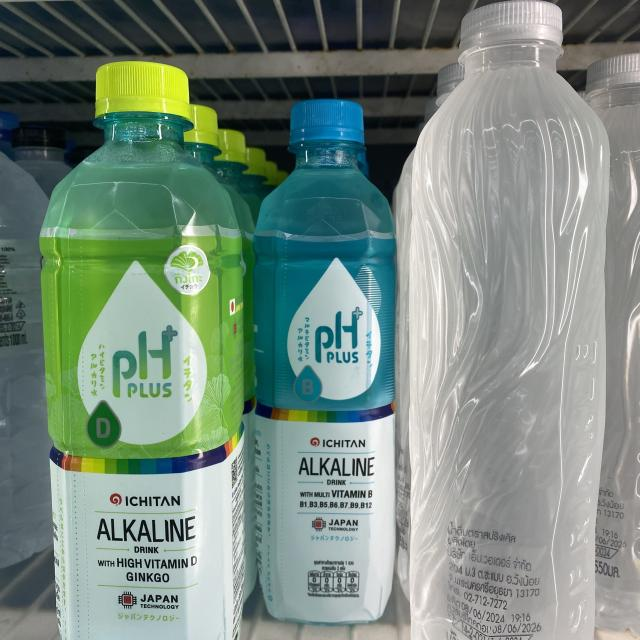plastik: (410, 0, 609, 640), (40, 61, 244, 640), (254, 99, 395, 624)
